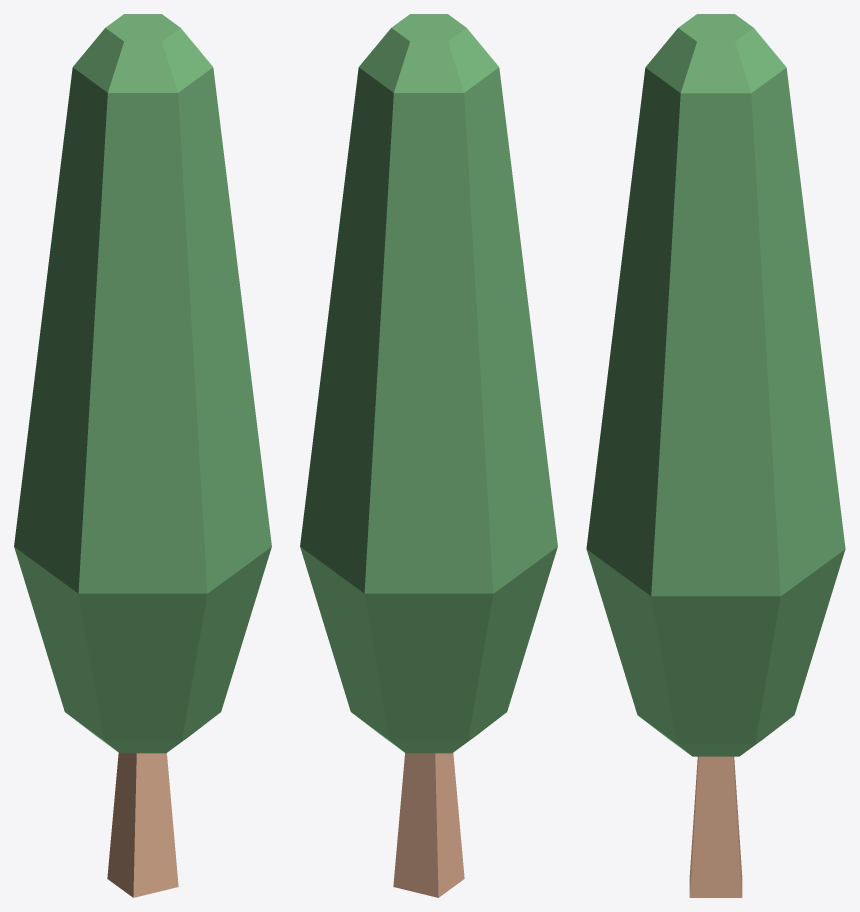
Rendered from poplartree_1.glb.
3 views of the same model, side by side, from view 1: azimuth 30°, elevation 25°; view 2: azimuth 150°, elevation 25°; view 3: azimuth 270°, elevation 25° (orthographic).
Visible parts, largest first — view 1: tree_tall; view 2: tree_tall; view 3: tree_tall.
Part boxes in pixels (left/top/right/bottom): tree_tall: left=14, top=14, right=271, bottom=897; tree_tall: left=300, top=14, right=557, bottom=897; tree_tall: left=586, top=14, right=845, bottom=897.
Size of the model in its own units: 1.89 by 8 by 2.19.
